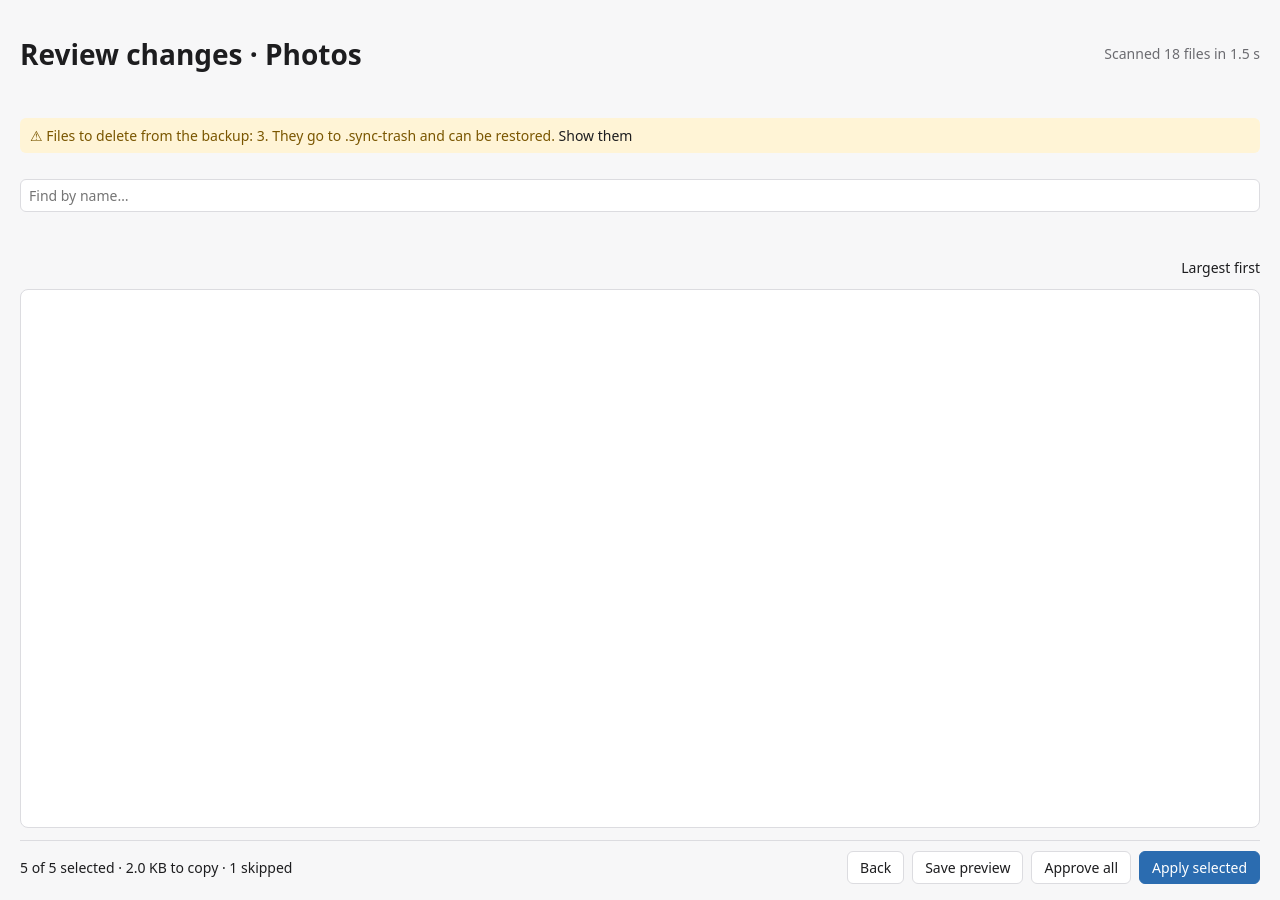
Test: Preview › ticking a find result toggles that path, updates the totals and refreshes the tree
This screenshot has width=1280, height=900.
Type "img_2400" into the search field at (640, 195), box 20,178 -> 1260,212
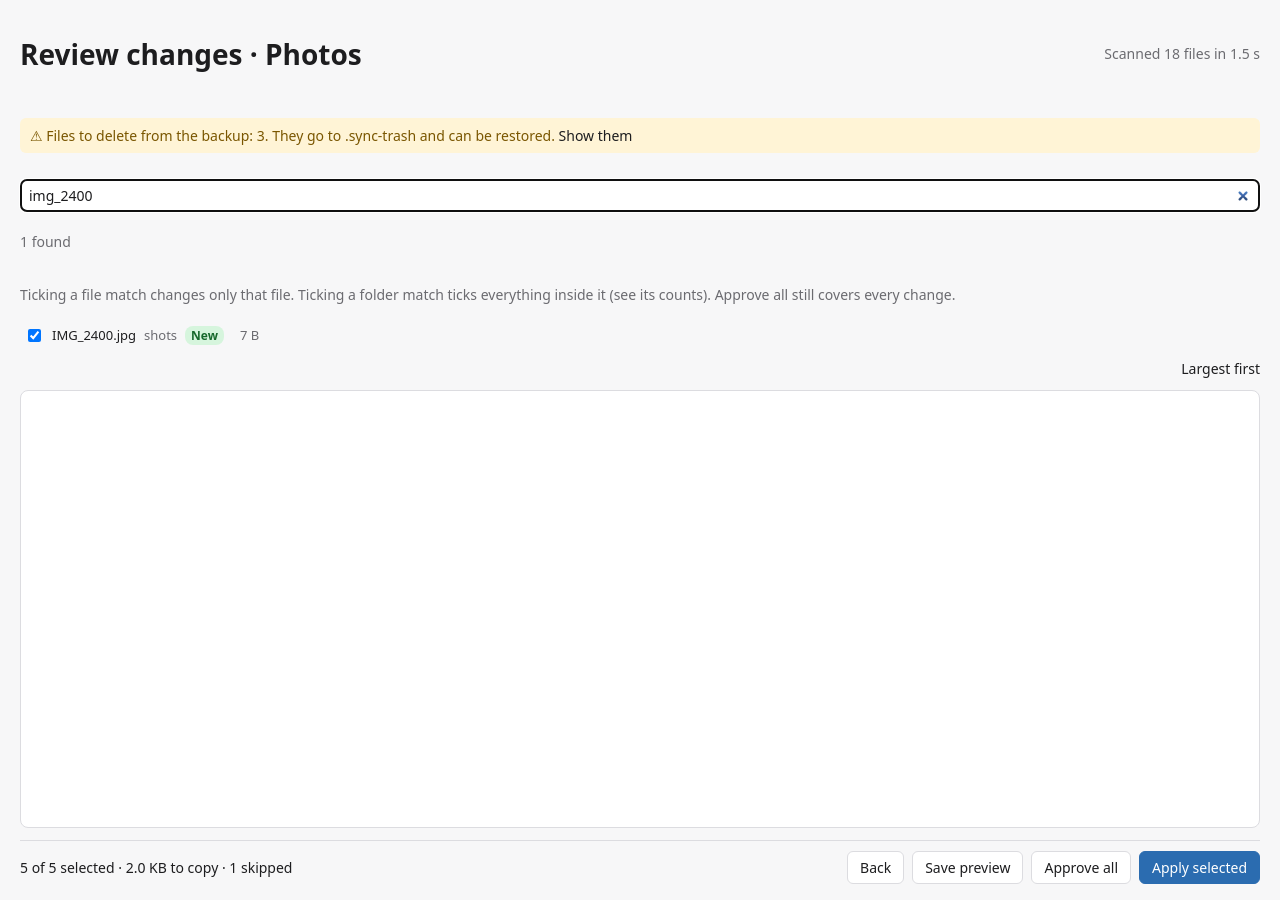
Click the checkbox named "shots/IMG_2400.jpg" at (34, 335), box 28,328 -> 41,342
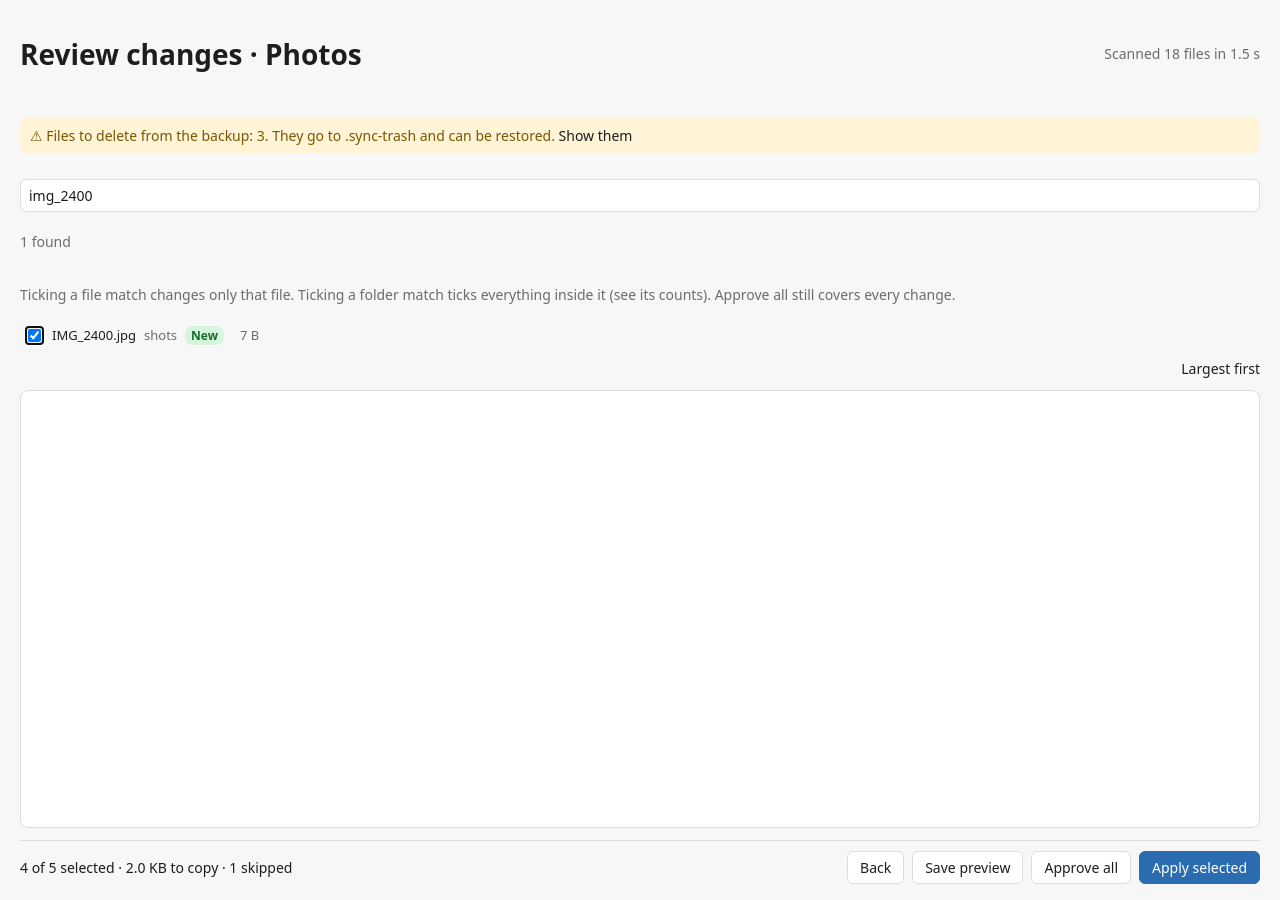
Check: the text "4 of 5 selected · 2.0 KB to copy · 1 skipped" is shown, box 20,858 -> 292,877
